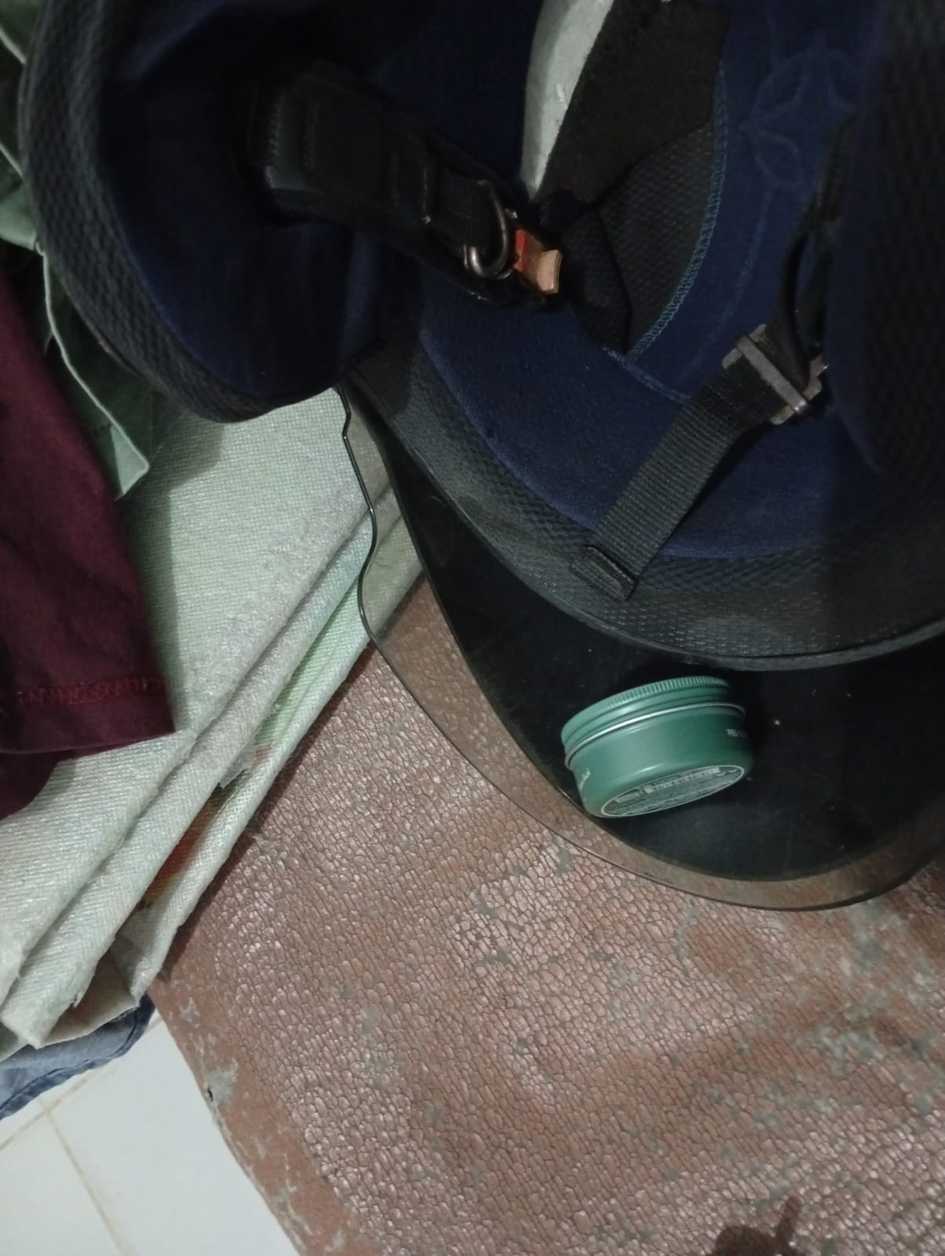Minyak_Rambut: (504, 654, 810, 855)
